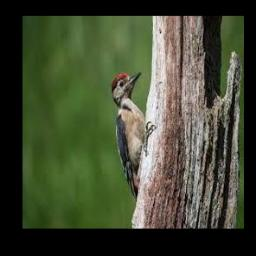Woodpecker: (112, 72, 146, 199)
